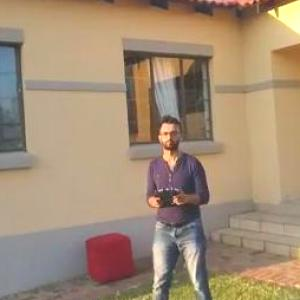follow: (126, 112, 210, 299)
